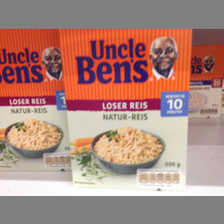rice: (59, 29, 193, 185), (1, 30, 70, 171), (189, 44, 223, 118)
